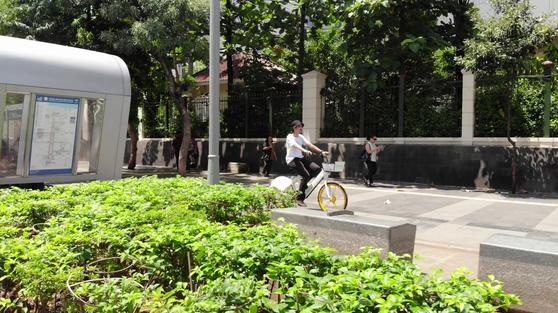bike: (258, 149, 355, 219)
